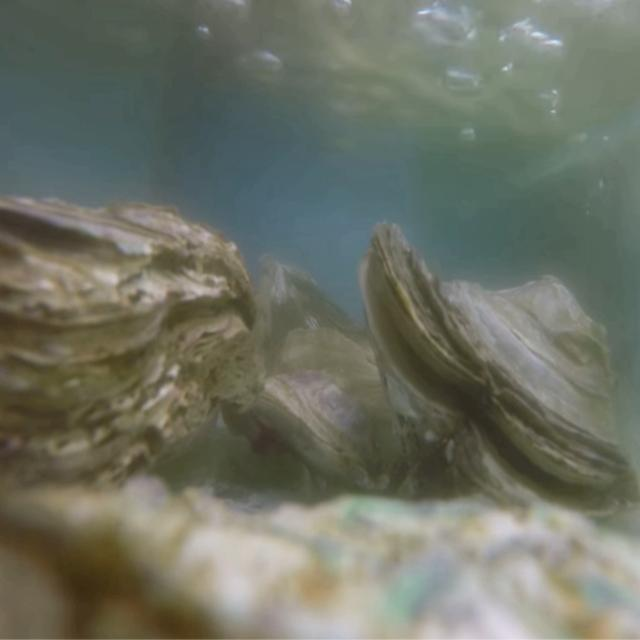Oyster-Closed: (0, 195, 259, 523), (256, 325, 419, 500)
Oyster-Indeterminate: (0, 479, 640, 640)
Oyster-Open: (358, 221, 640, 541)
